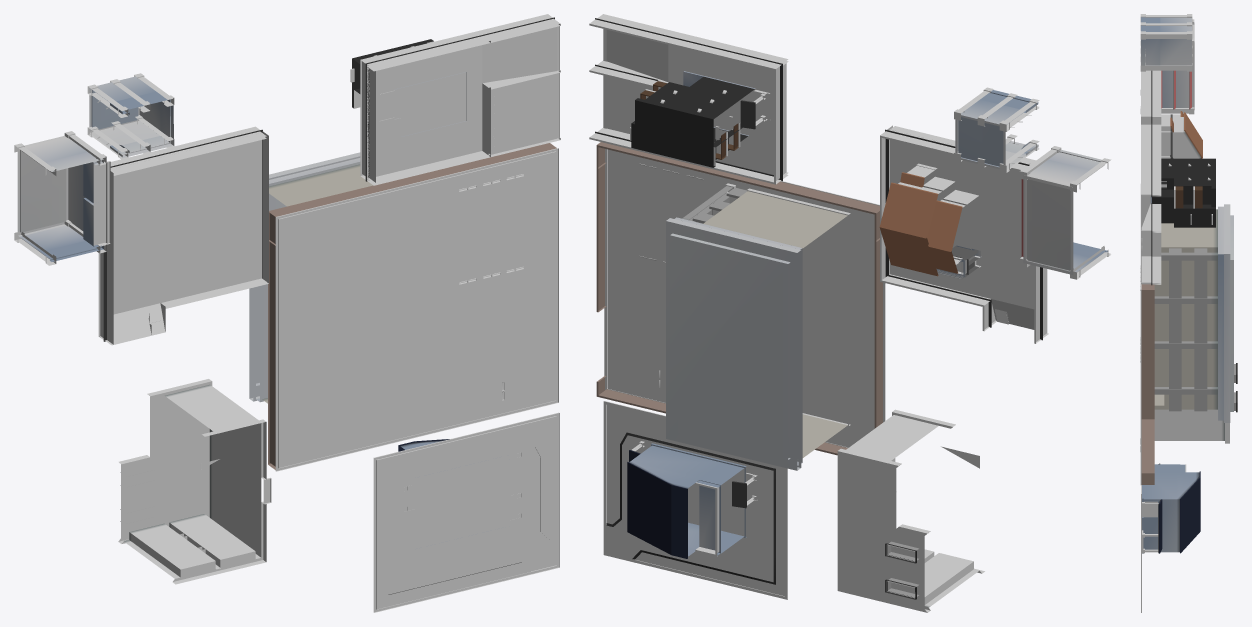
File: SM_000289_merge_w40h102_atlas1_1_3_lv2.fbx
3 renders of one model, left to right at view 1: azimuth 30°, elevation 25°; view 2: azimuth 150°, elevation 25°; view 3: azimuth 270°, elevation 25°, orthographic. The views are drawn at different scales.
Parts seen in each view (by area): view 1: SM_000289.001; view 2: SM_000289.001; view 3: SM_000289.001.
Boxes of the visible parts, x1,y1,x2,y2 form: SM_000289.001: (14, 14, 560, 612); SM_000289.001: (589, 14, 1111, 612); SM_000289.001: (1140, 14, 1237, 612).
Bounding box in the file's own units: 59.78 × 62.86 × 12.75.
